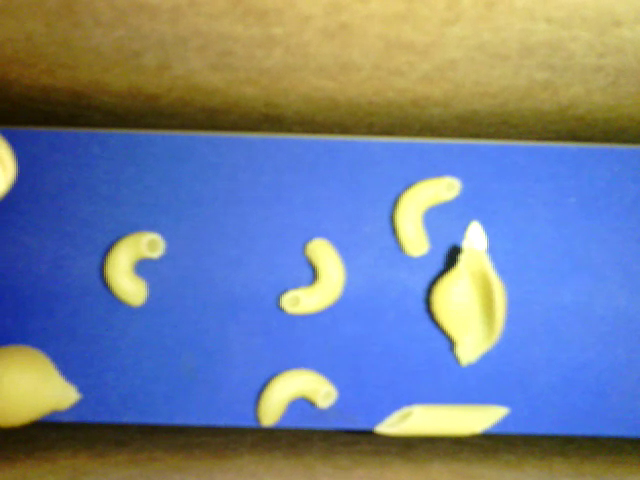elbow: (392, 175, 460, 258), (277, 237, 346, 316), (102, 230, 166, 308), (256, 368, 337, 428)
penne: (374, 403, 508, 435)
shell: (430, 237, 505, 368), (1, 344, 84, 429)
